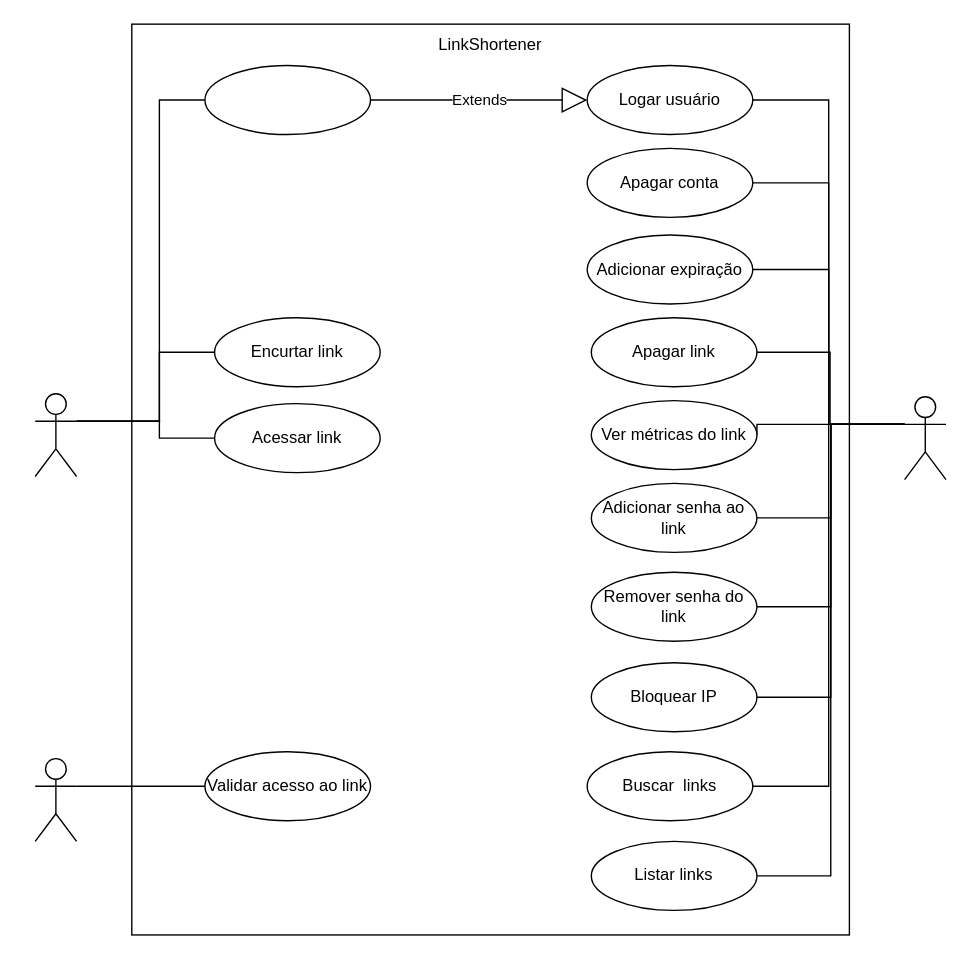
The diagram is 977 pixels wide and 959 high, and some of its shapes have lost their labels. Here are the shapes that lost their labels. From the top down, the centre of each, then its label:
At point (287, 99): "Cadastrar usuário".
At point (55, 434): "Visitante".
At point (924, 437): "Usuário".
At point (55, 799): "Sistema".
